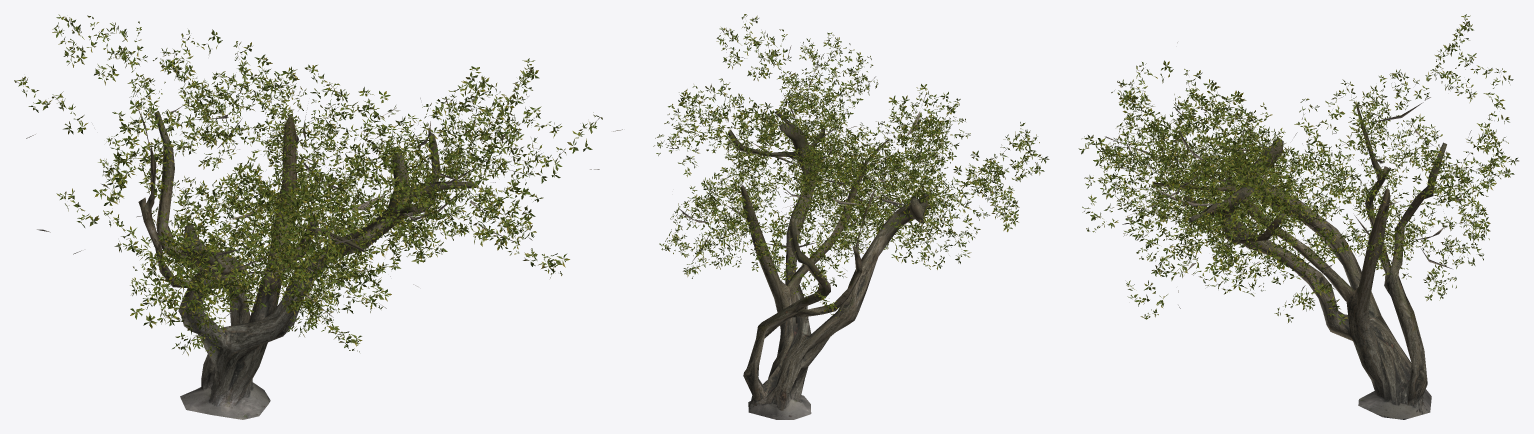
Rendered from island-tree.glb.
3 renders of one model, left to right at view 1: azimuth 30°, elevation 25°; view 2: azimuth 150°, elevation 25°; view 3: azimuth 270°, elevation 25°, orthographic. The views are drawn at different scales.
Bounding box in the file's own units: 4.21 × 3.41 × 4.07.
3 materials, 3 textured.
